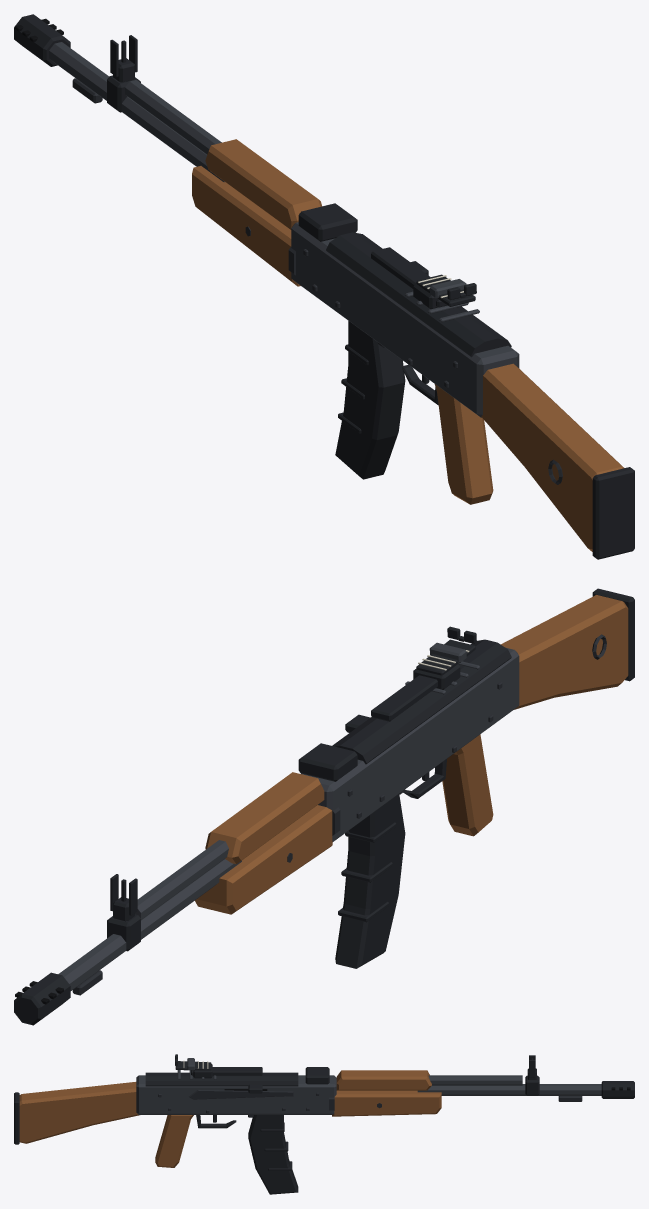
3 views of the same model, one above another, from view 1: azimuth 30°, elevation 25°; view 2: azimuth 150°, elevation 25°; view 3: azimuth 270°, elevation 25° (orthographic). The views are drawn at different scales.
Visible parts, largest first — view 1: ak_body, ak_mag, ak_rail; view 2: ak_body, ak_mag, ak_rail; view 3: ak_body, ak_mag, ak_rail.
Boxes of the visible parts, <box> form: ak_body: <box>14,14,634,559</box>; ak_mag: <box>335,321,405,479</box>; ak_rail: <box>371,247,447,307</box>; ak_body: <box>14,588,634,1025</box>; ak_mag: <box>335,794,405,968</box>; ak_rail: <box>371,675,437,721</box>; ak_body: <box>14,1054,634,1167</box>; ak_mag: <box>248,1115,298,1194</box>; ak_rail: <box>191,1067,262,1075</box>.
Bounding box in the file's own units: 0.0765 × 0.3107 × 1.3.
